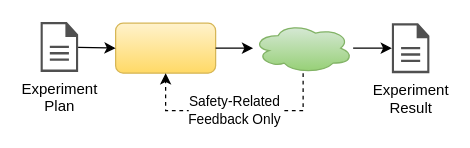
This 470x148 diagram has some shape labels left out. The centre of each missing label's shape, as x and y in pixels:
Experiment Controller: [165,47]
Test: [302,47]
